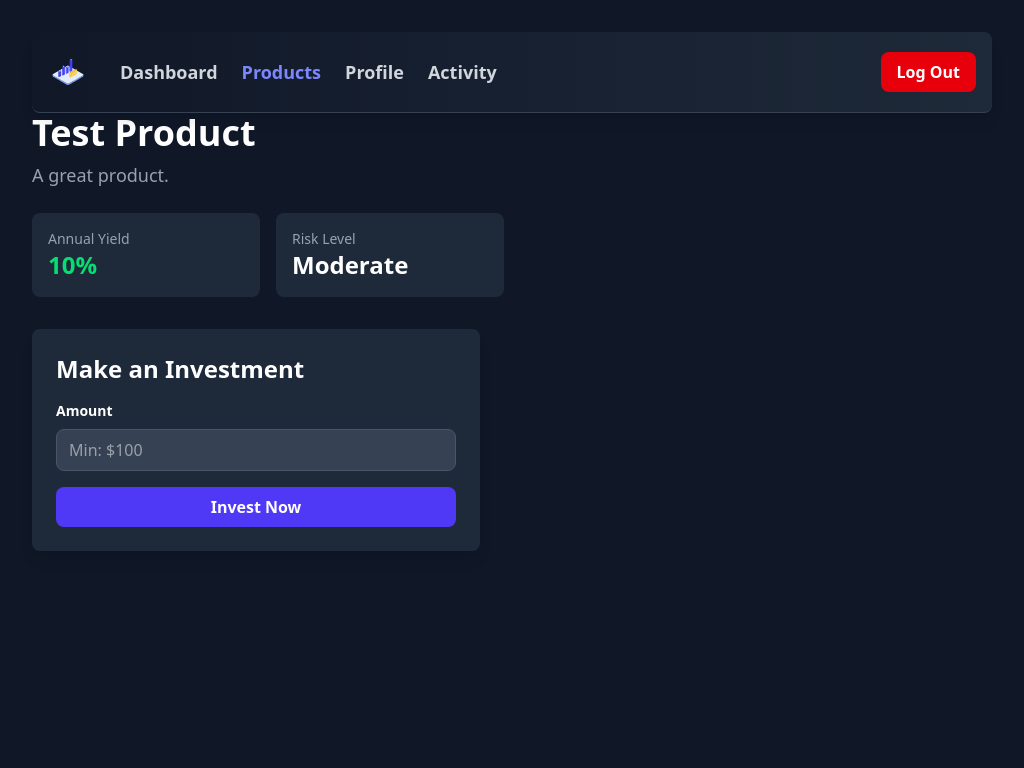
Scenario: ProductDetailPage › should allow a user to make an investment
This screenshot has width=1024, height=768.
Check: the heading "Test Product" is shown, box top-left (32, 108), bottom-right (256, 157)
Note: Simulate user typing an amount
Type "500" into the number field labelled "Amount" at (256, 450), box top-left (56, 429), bottom-right (456, 471)
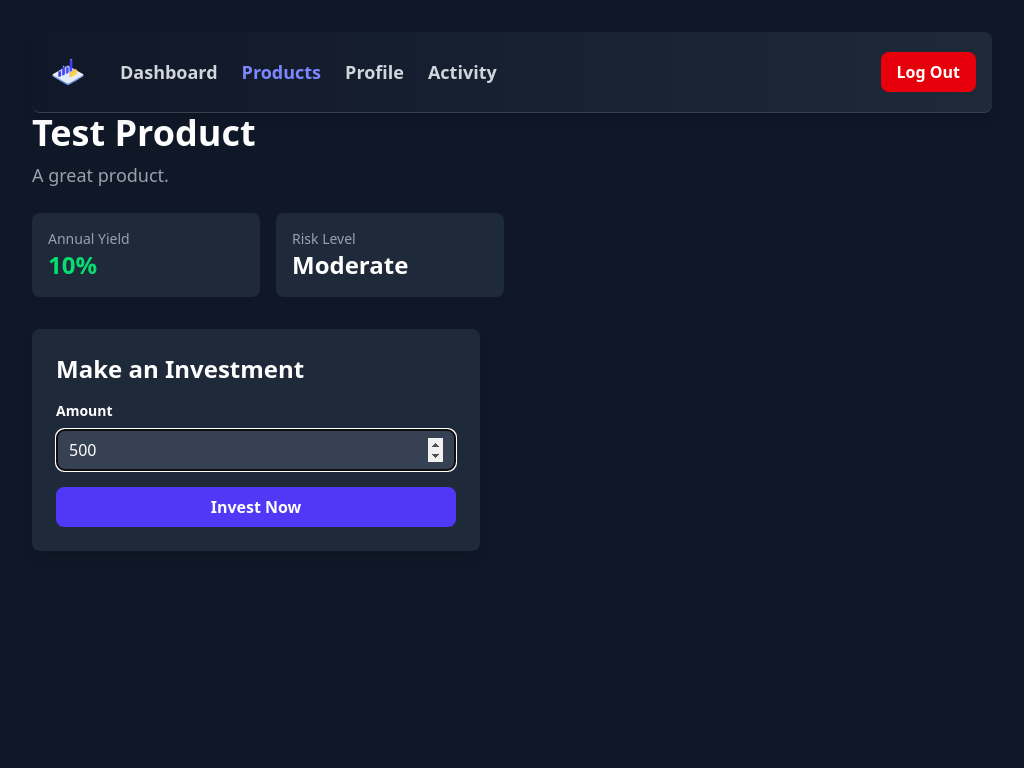
Note: Simulate clicking the button
Click the button "Invest Now" at (256, 507), box top-left (56, 487), bottom-right (456, 527)
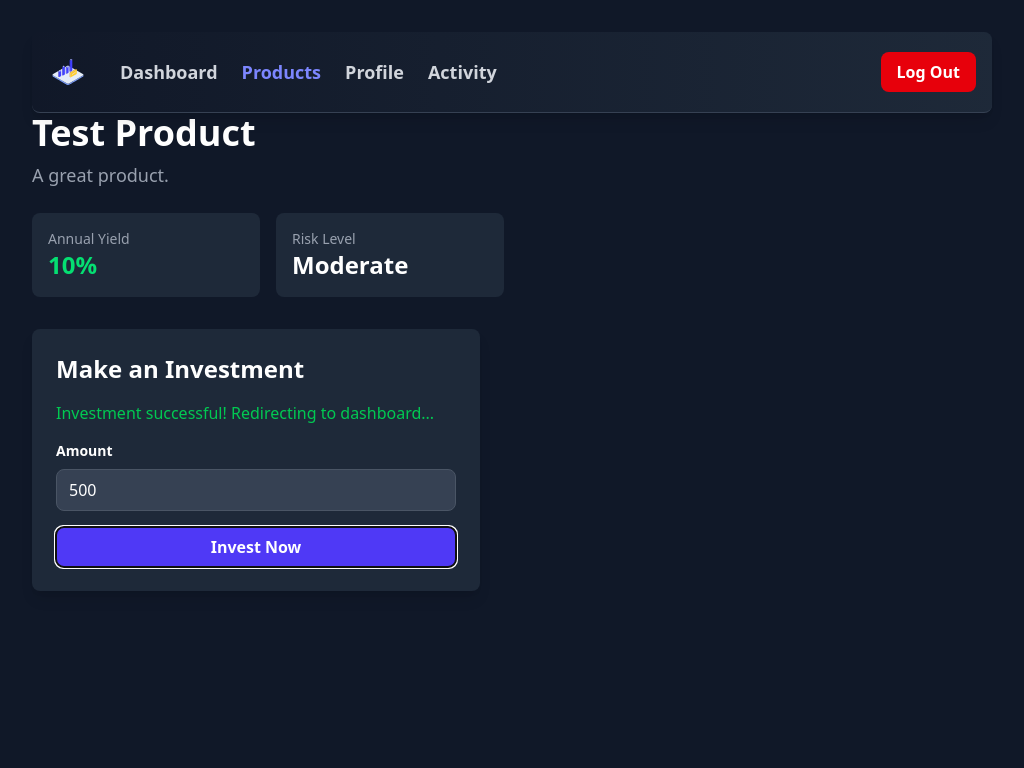
Check: the text "Investment successful! Redirecting to dashboard..." is shown, box top-left (56, 401), bottom-right (456, 425)
